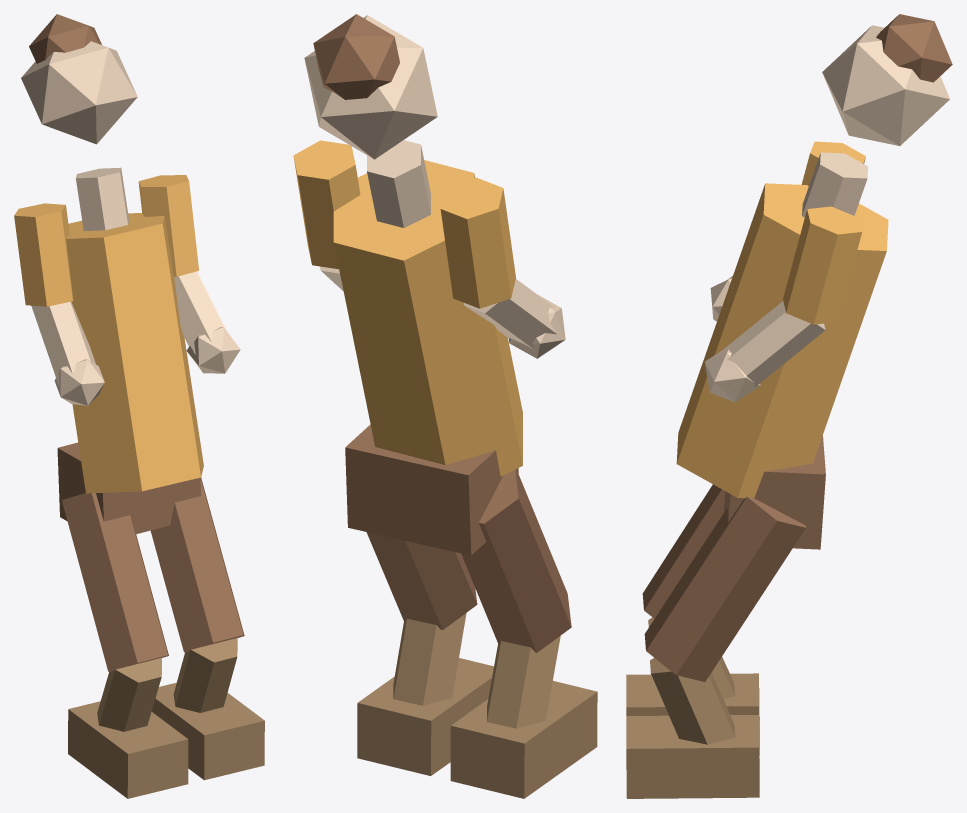
The model's file is pose_hit_light_08.glb.
3 views of the same model, side by side, from view 1: azimuth 30°, elevation 25°; view 2: azimuth 150°, elevation 25°; view 3: azimuth 270°, elevation 25° (orthographic). The views are drawn at different scales.
Visible parts, largest first — view 1: pose; view 2: pose; view 3: pose.
Part boxes in pixels (box(x1,y1,x2,y2)): pose: box(14, 14, 264, 798); pose: box(293, 14, 597, 798); pose: box(626, 14, 952, 798).
Bounding box in the file's own units: 0.4045 × 1.48 × 0.5903.
